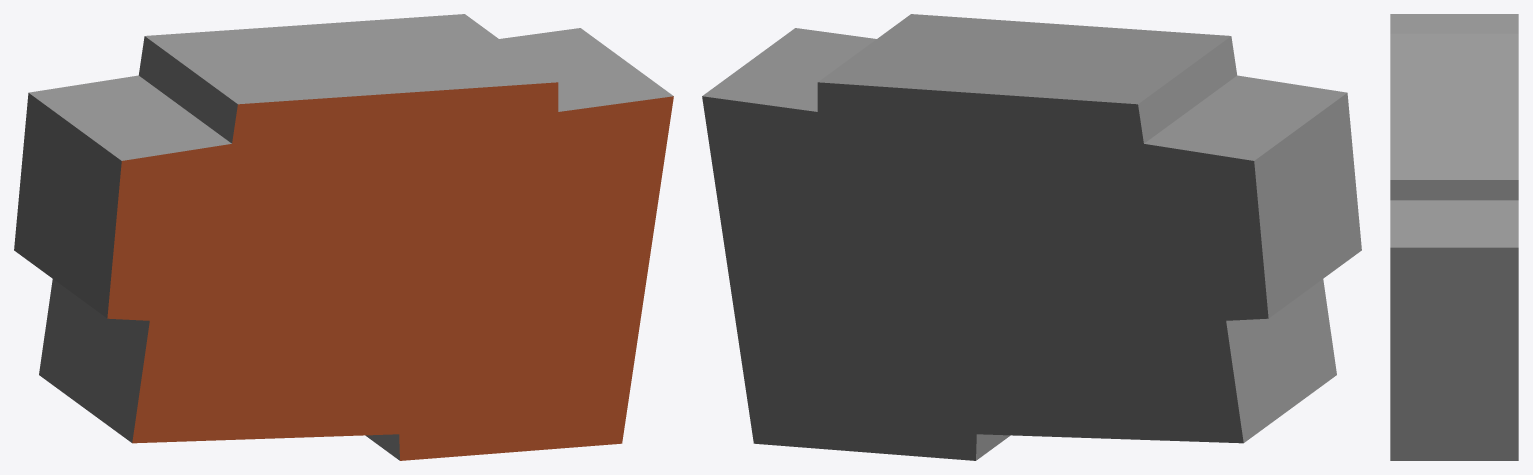
File: construction_0949_assumed_A_Casa_h6m.obj
3 views of the same model, side by side, from view 1: azimuth 30°, elevation 25°; view 2: azimuth 150°, elevation 25°; view 3: azimuth 270°, elevation 25° (orthographic). The views are drawn at different scales.
Parts seen in each view (by area): view 1: construction_0949_assumed_A_Casa; view 2: construction_0949_assumed_A_Casa; view 3: construction_0949_assumed_A_Casa.
Part boxes in pixels (left/top/right/bottom): construction_0949_assumed_A_Casa: left=14, top=14, right=673, bottom=460; construction_0949_assumed_A_Casa: left=702, top=14, right=1361, bottom=460; construction_0949_assumed_A_Casa: left=1390, top=14, right=1518, bottom=460.
Bounding box in the file's own units: 21.02 × 15.36 × 6.
